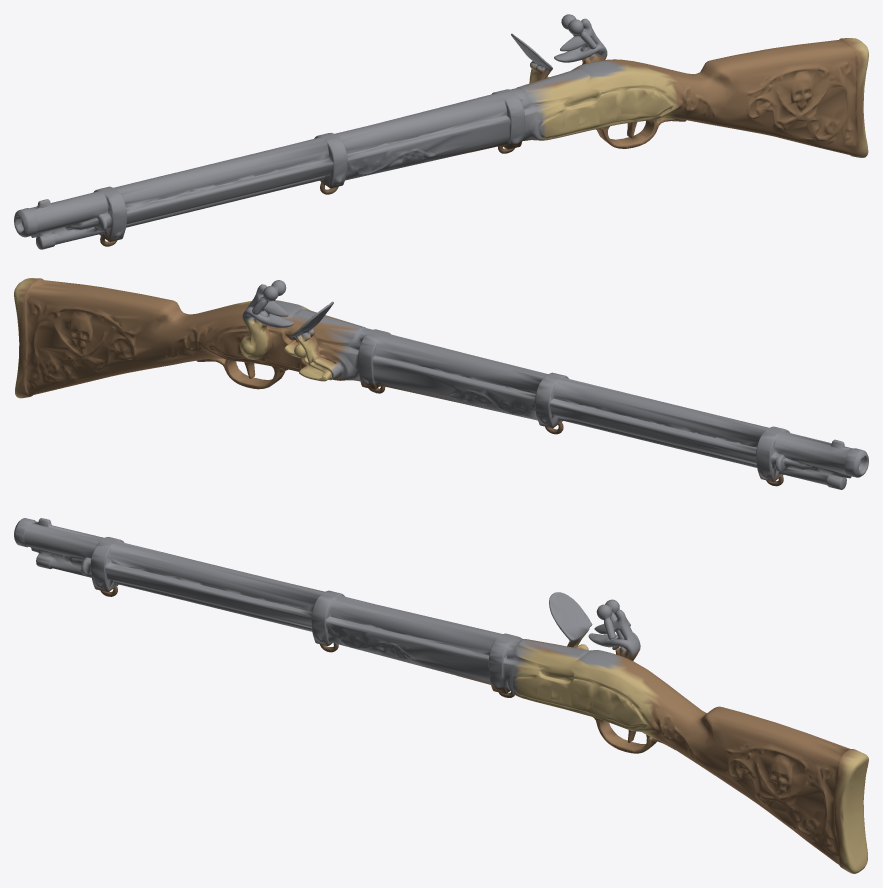
The model's file is musket.glb.
3 views of the same model, one above another, from view 1: azimuth 30°, elevation 25°; view 2: azimuth 150°, elevation 25°; view 3: azimuth 330°, elevation 25° (orthographic).
Bounding box in the file's own units: 1.9 × 0.411 × 0.1755.
